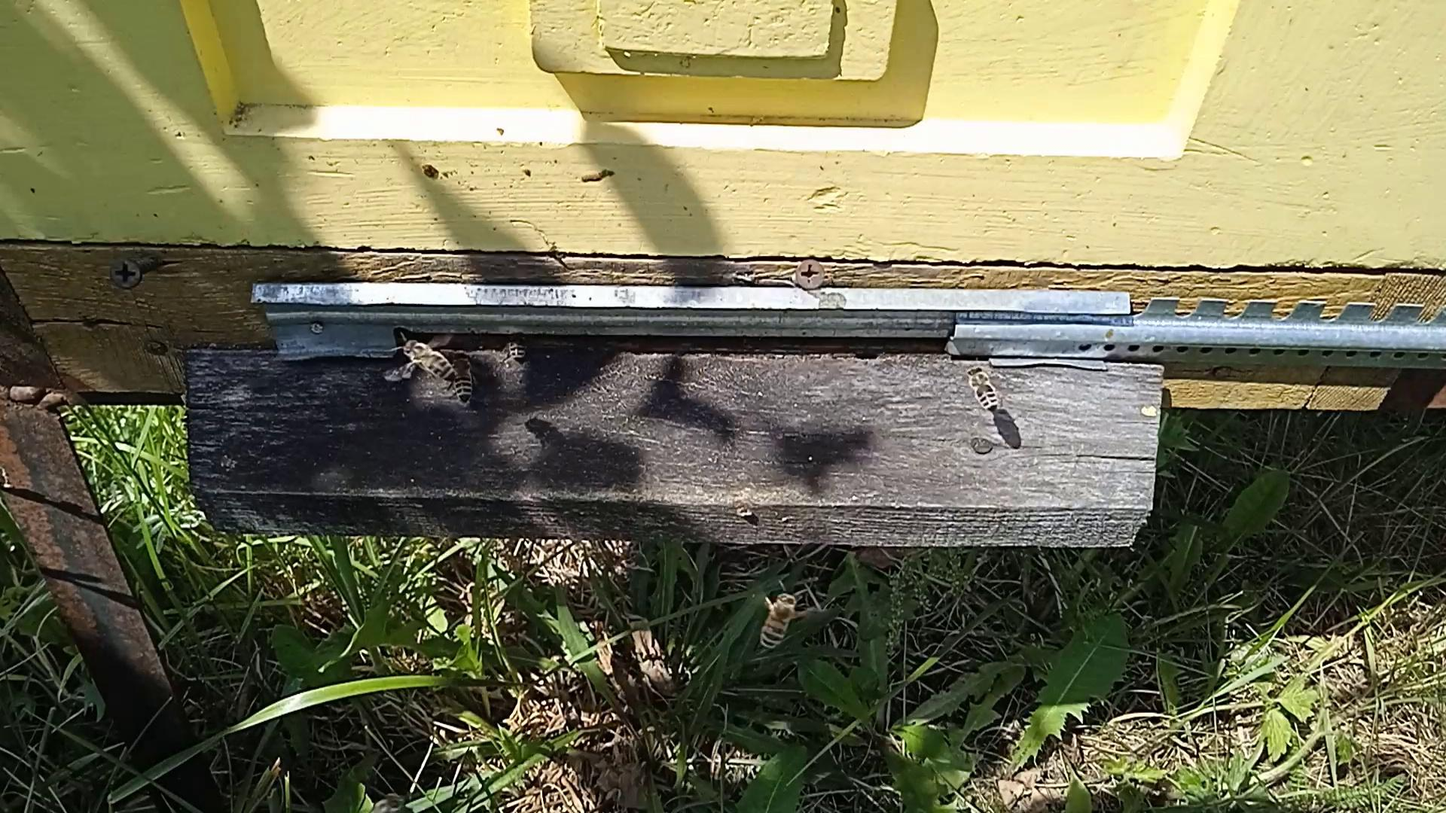worker-bee: (758, 591, 801, 651), (400, 339, 456, 380), (964, 362, 1002, 412), (447, 354, 479, 407), (502, 333, 531, 364), (368, 793, 410, 813)
